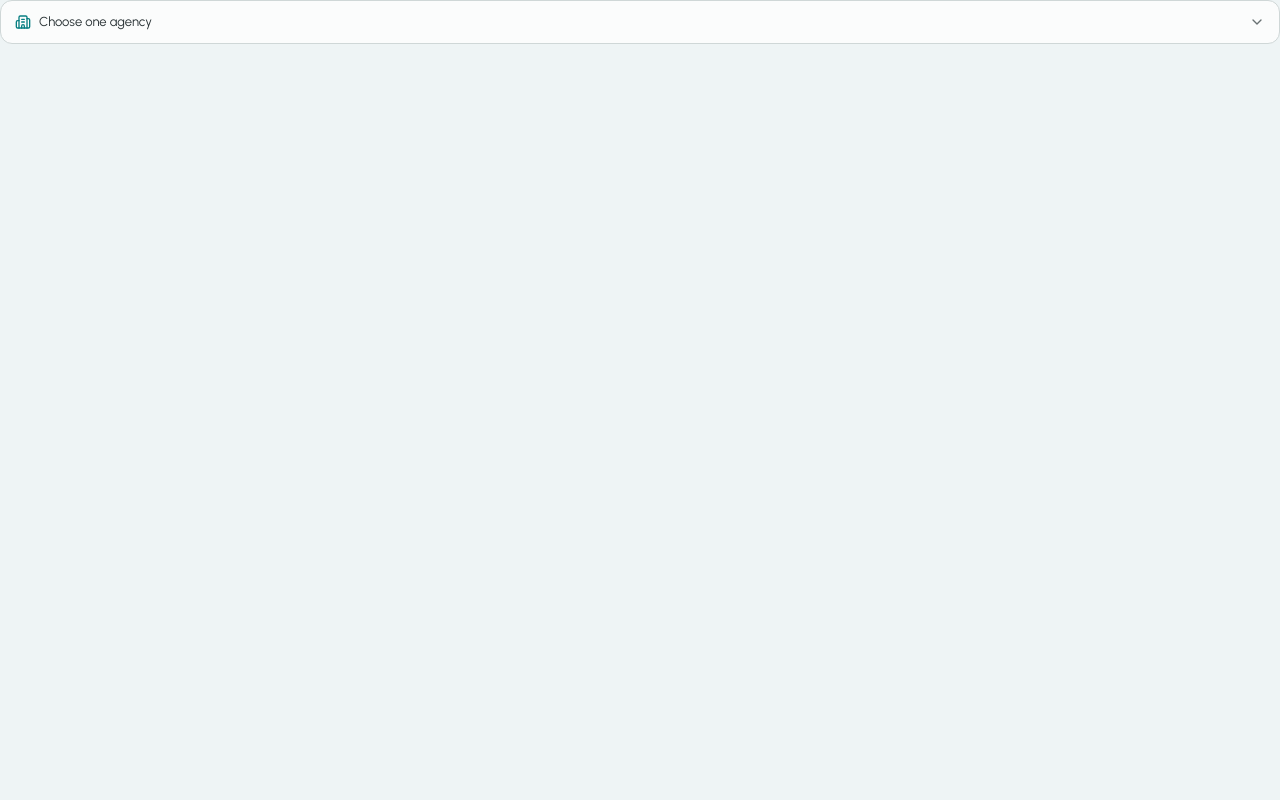
it: OperationalAgencySelector › supports single selection through the real rendered control
Click the button with aria-label "Select an agency, choose one agency". click: (95,22)
box: 0,0 -> 1279,44
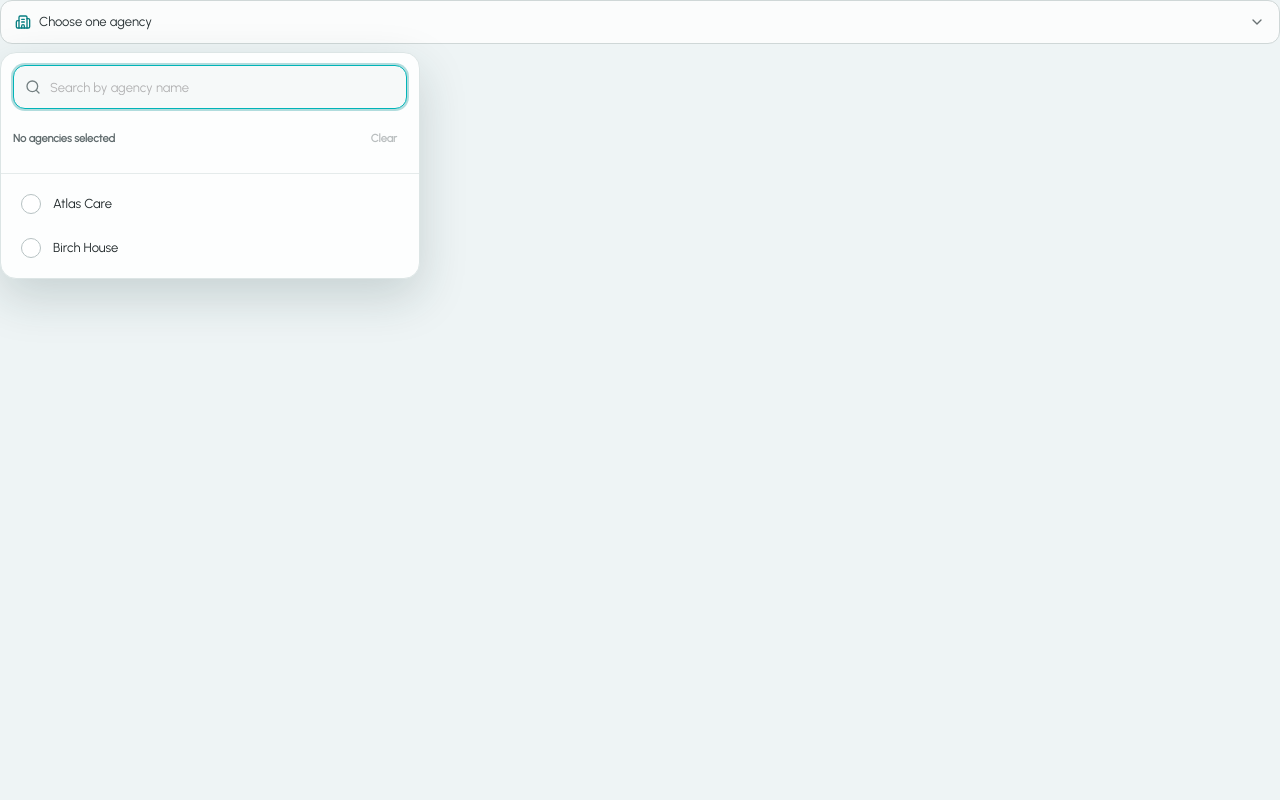
Click the option "Atlas Care". click: (83,204)
box: 9,182 -> 411,226
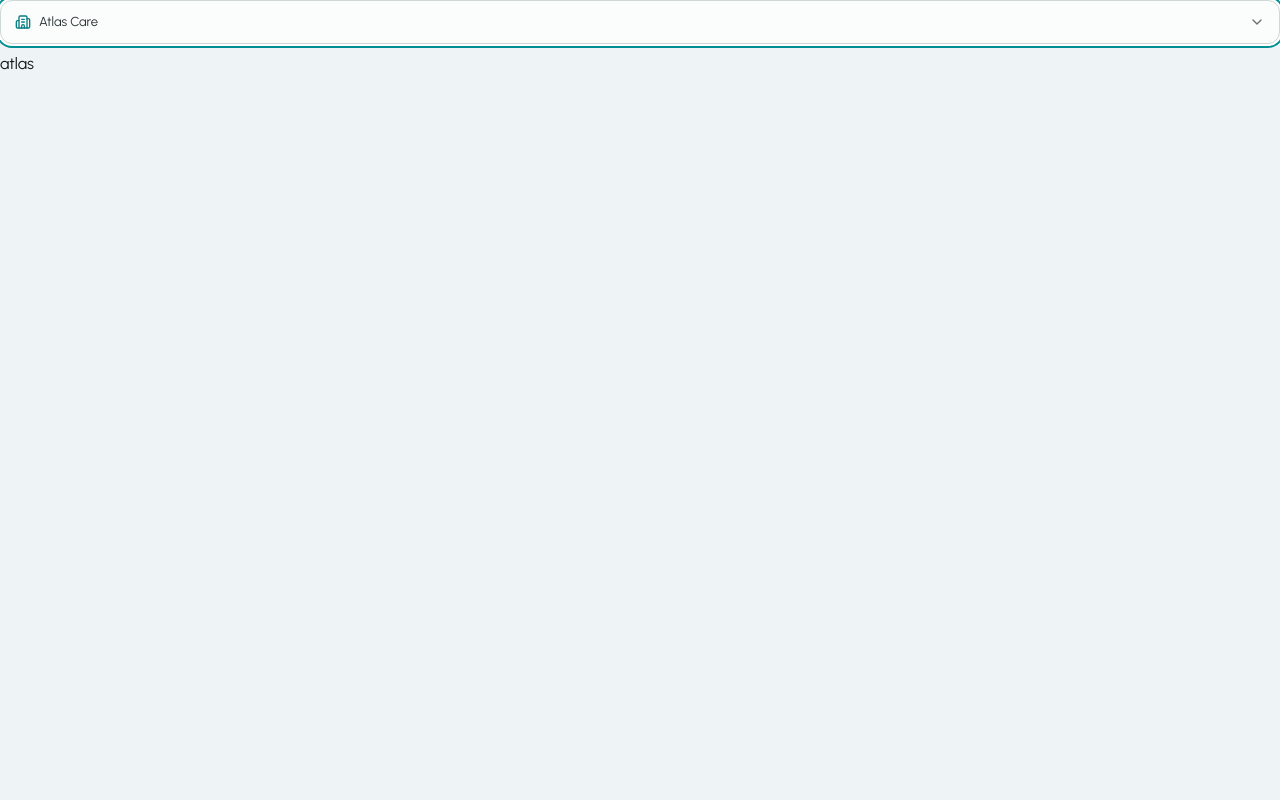
Expected: the text named "Selected agency IDs" reads "atlas", 0,54 -> 34,73
Click the button with aria-label "Select an agency, Atlas Care selected". click: (69,22)
box: 0,0 -> 1279,44
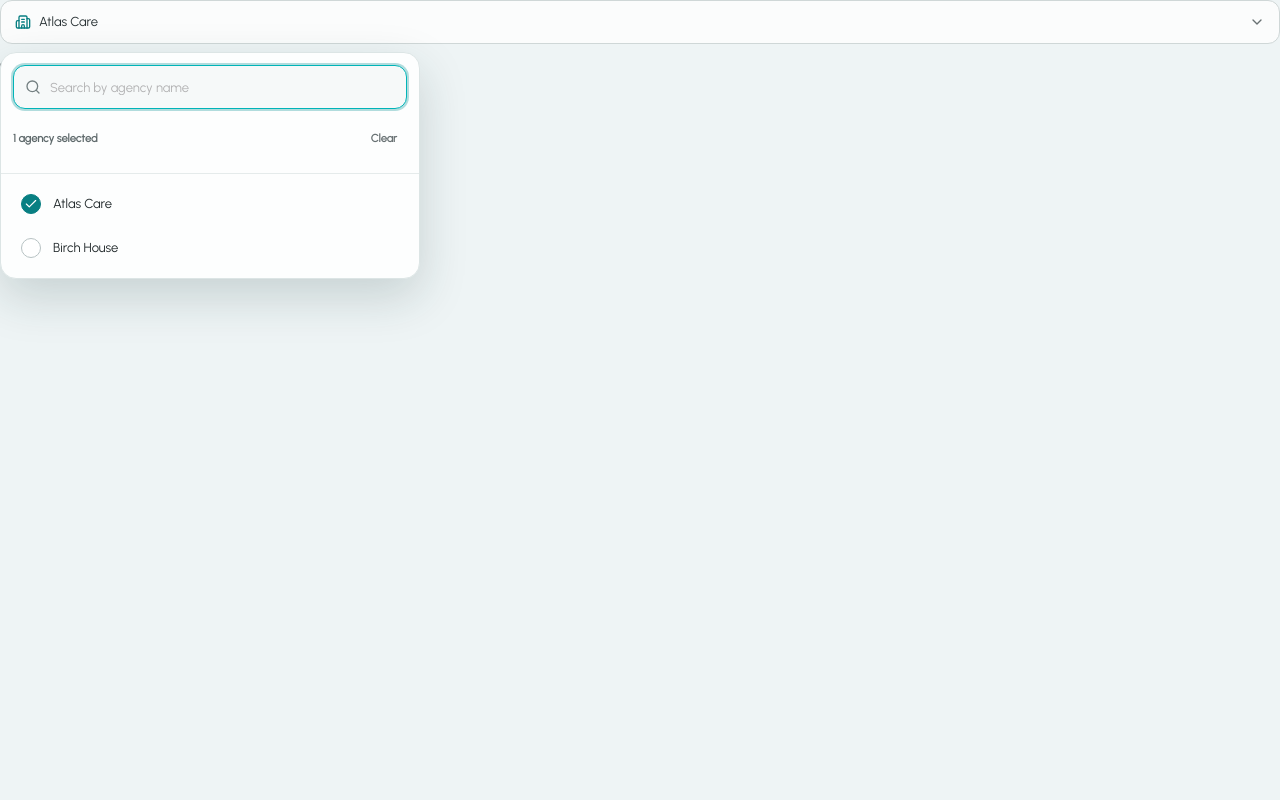
Click the option "Birch House". click: (86,248)
box: 9,226 -> 411,270
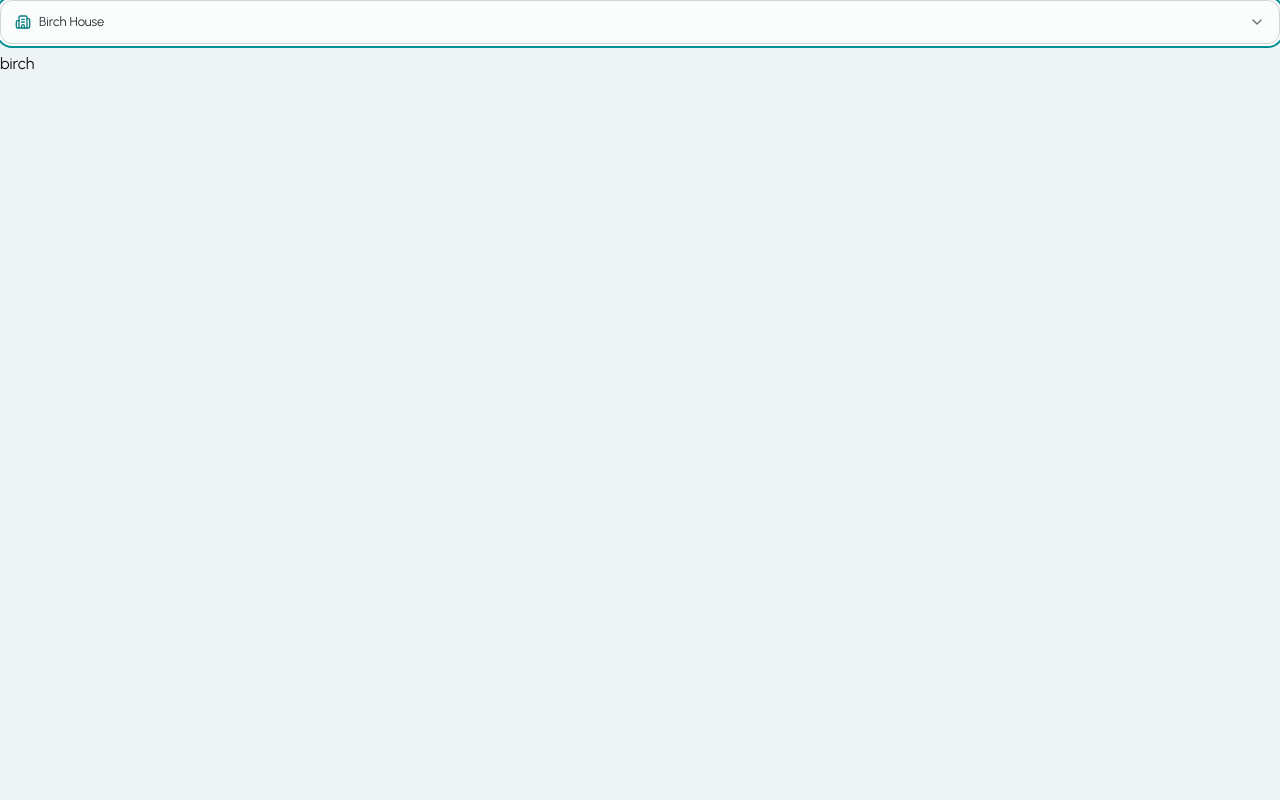
Expected: the text named "Selected agency IDs" reads "birch", 0,54 -> 34,73
Expected: the text named "Selected agency IDs" no longer shows "Atlas", 0,54 -> 34,73
